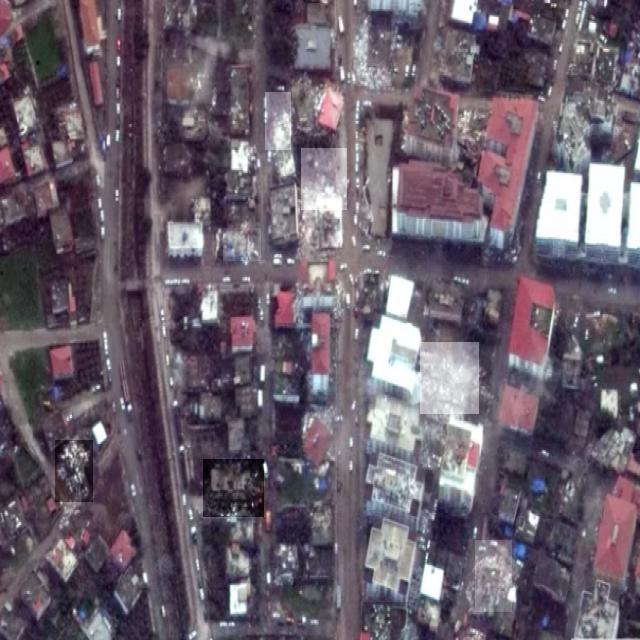Rubble: (420, 342, 479, 414), (203, 459, 264, 517), (301, 147, 347, 210), (475, 540, 512, 612), (352, 17, 388, 86), (55, 440, 93, 502), (362, 602, 415, 640), (300, 210, 336, 260), (265, 92, 291, 150), (224, 228, 262, 261), (458, 100, 483, 150), (264, 153, 294, 181)
